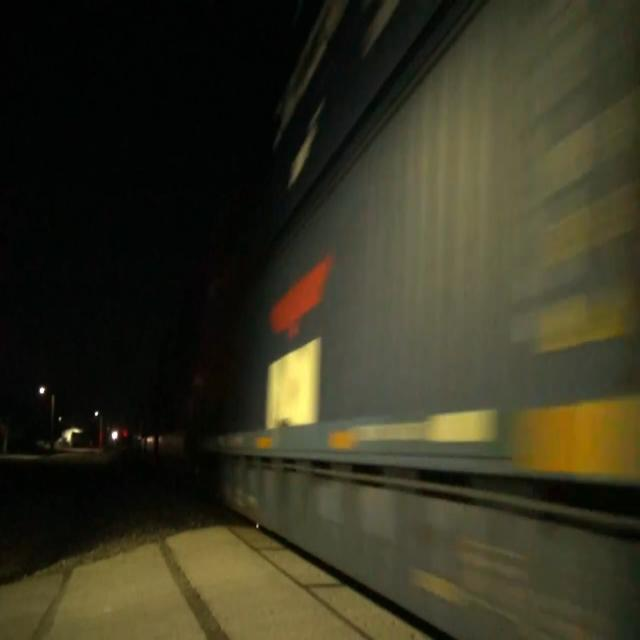container: (216, 0, 640, 502)
flatcar: (202, 419, 639, 640)
